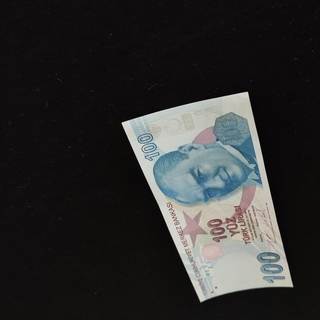100TLFront: (121, 91, 293, 304)
